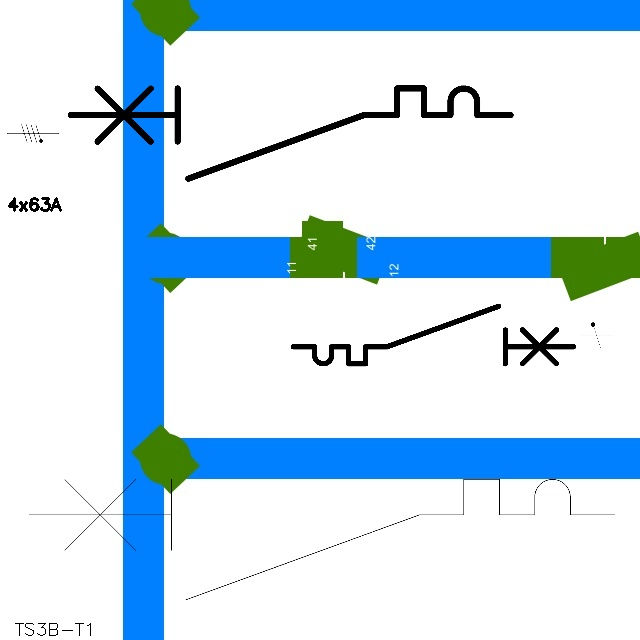interruptor_termomagnetico: (14, 464, 630, 615), (59, 77, 522, 190), (286, 299, 580, 371)
